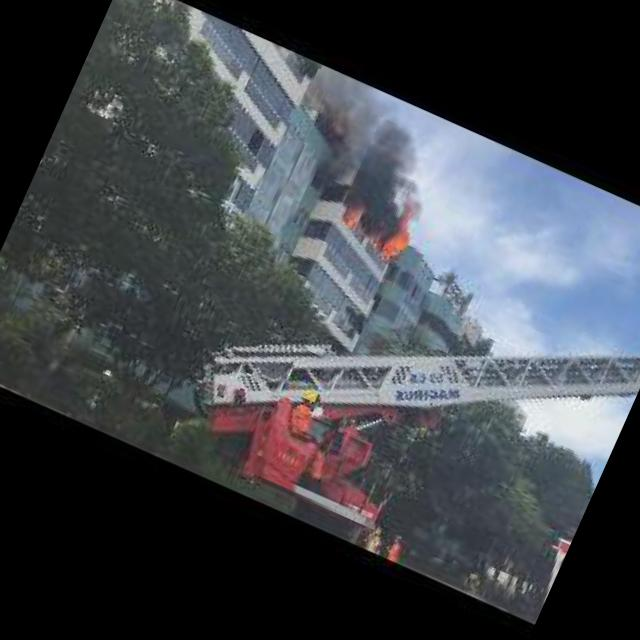fire: (374, 200, 424, 260)
smoke: (325, 114, 442, 256)
